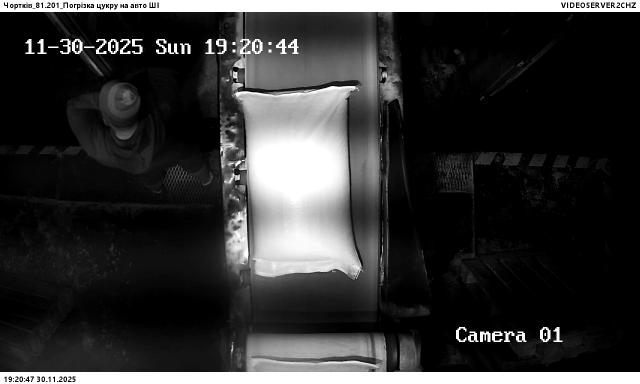bag: (235, 88, 364, 279), (252, 358, 381, 372)
